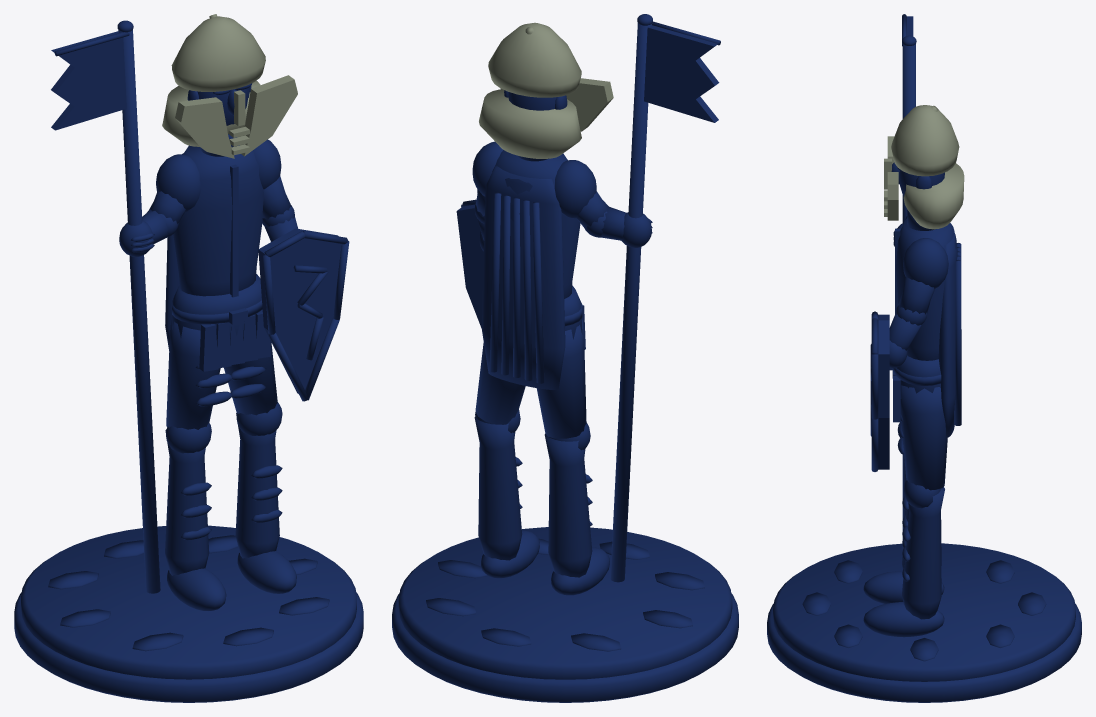
Rendered from knight-blue-level-3-helmet.fbx.
The picture shows the model from 3 angles, left to right: view 1: azimuth 30°, elevation 25°; view 2: azimuth 150°, elevation 25°; view 3: azimuth 270°, elevation 25°; orthographic projection. The views are drawn at different scales.
Visible parts, largest first — view 1: Knight_Level_3_Helmet_Sculpt; view 2: Knight_Level_3_Helmet_Sculpt; view 3: Knight_Level_3_Helmet_Sculpt.
Boxes of the visible parts, x1=… form: Knight_Level_3_Helmet_Sculpt: x1=14, y1=14, x2=363, y2=702; Knight_Level_3_Helmet_Sculpt: x1=392, y1=14, x2=738, y2=702; Knight_Level_3_Helmet_Sculpt: x1=767, y1=14, x2=1081, y2=702.
Size of the model in its own units: 0.012 by 0.024 by 0.012.
